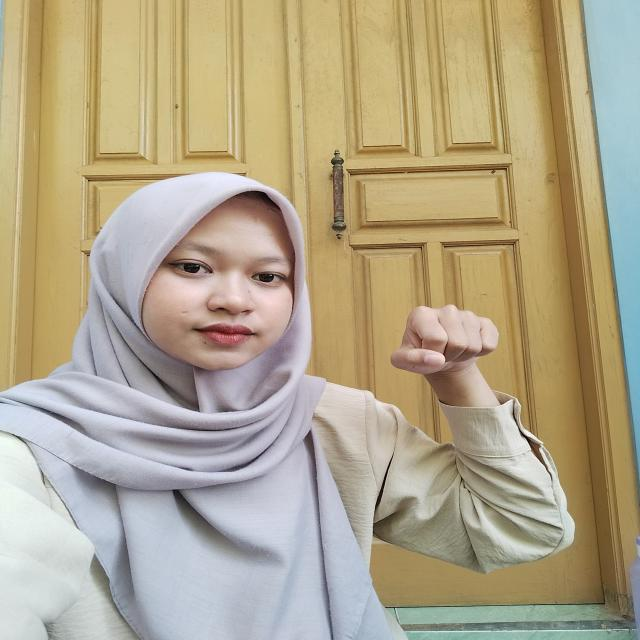baik: (375, 299, 548, 464)
